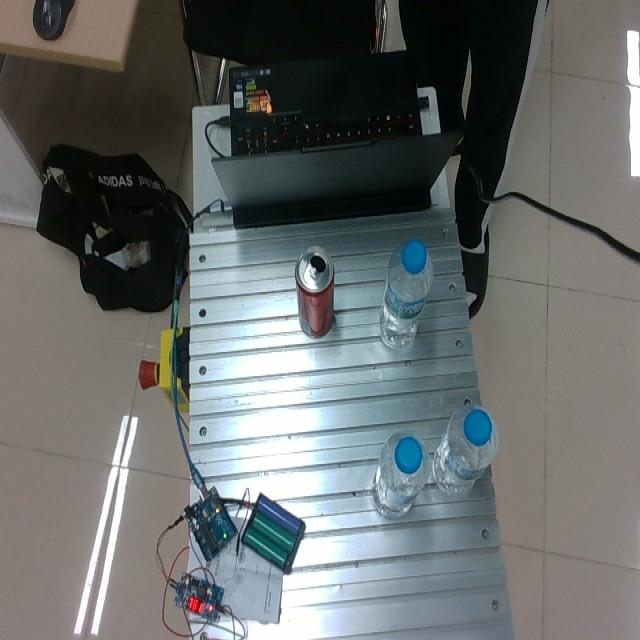coca: (294, 244, 335, 337)
lavie: (378, 239, 433, 349), (431, 404, 497, 493), (370, 429, 429, 519)
